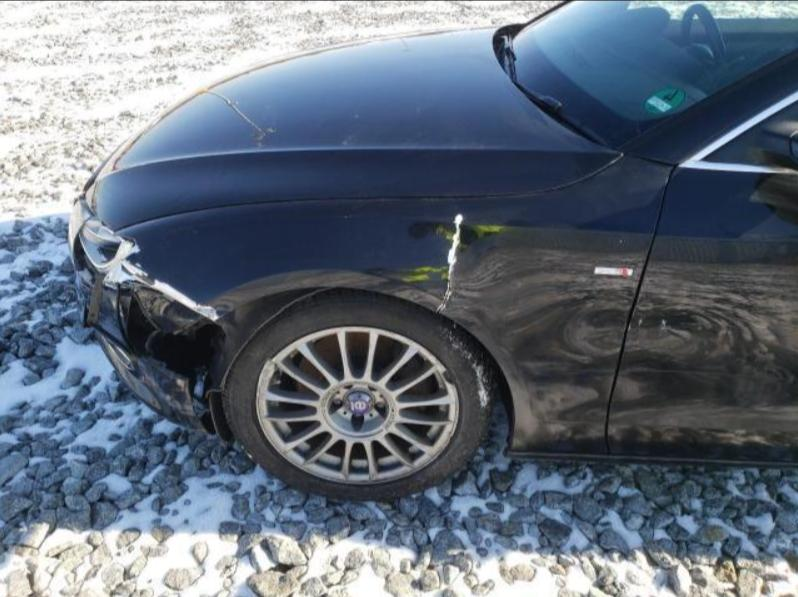Broken part: (94, 260, 239, 444)
Dent: (543, 282, 761, 367)
Paint damage: (98, 237, 221, 325), (431, 212, 469, 318)
